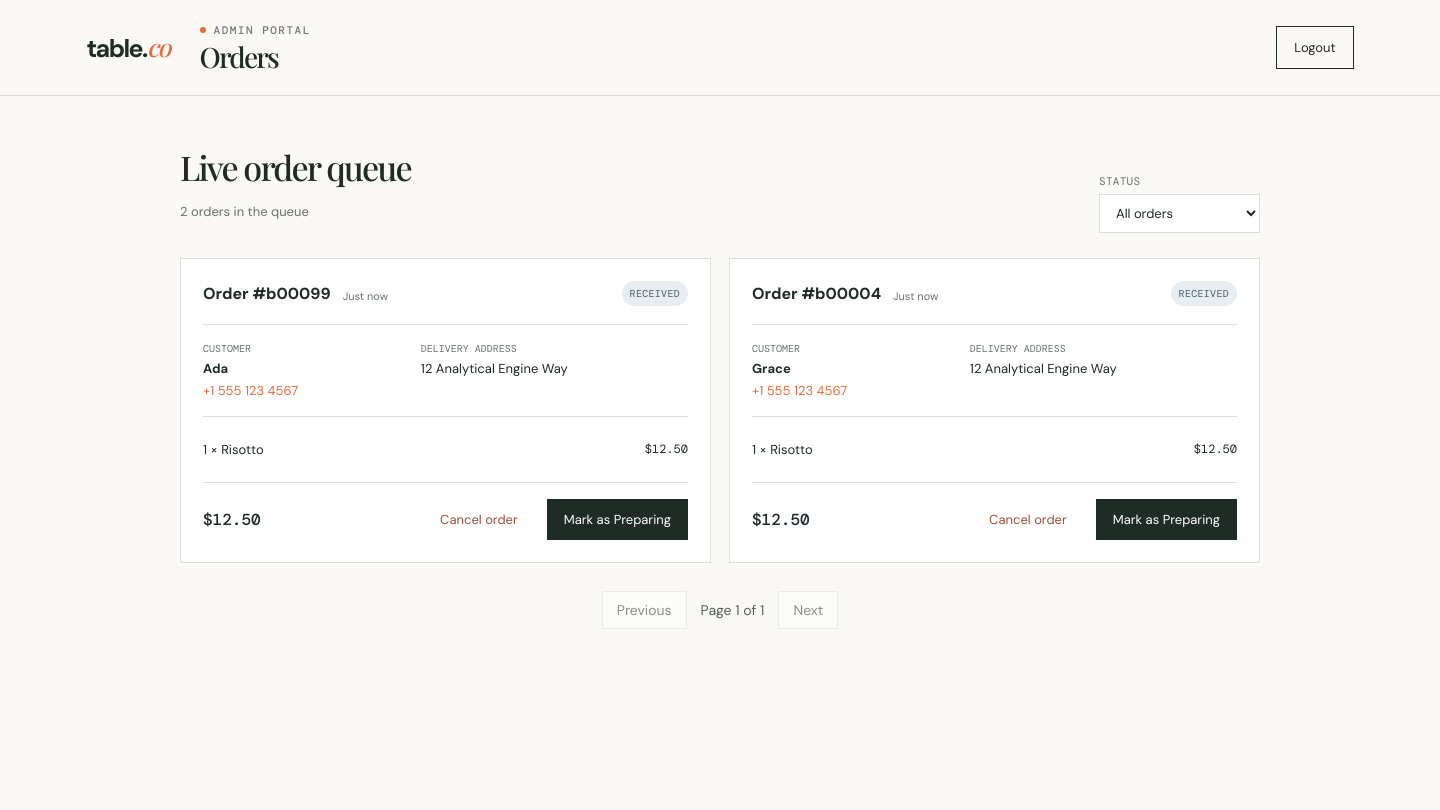
Test case: admin orders › clears one card loading state and shows an error when its status update fails
Click the button "Mark as Preparing" below "b00099".
click(617, 520)  # box [547,499,688,540]
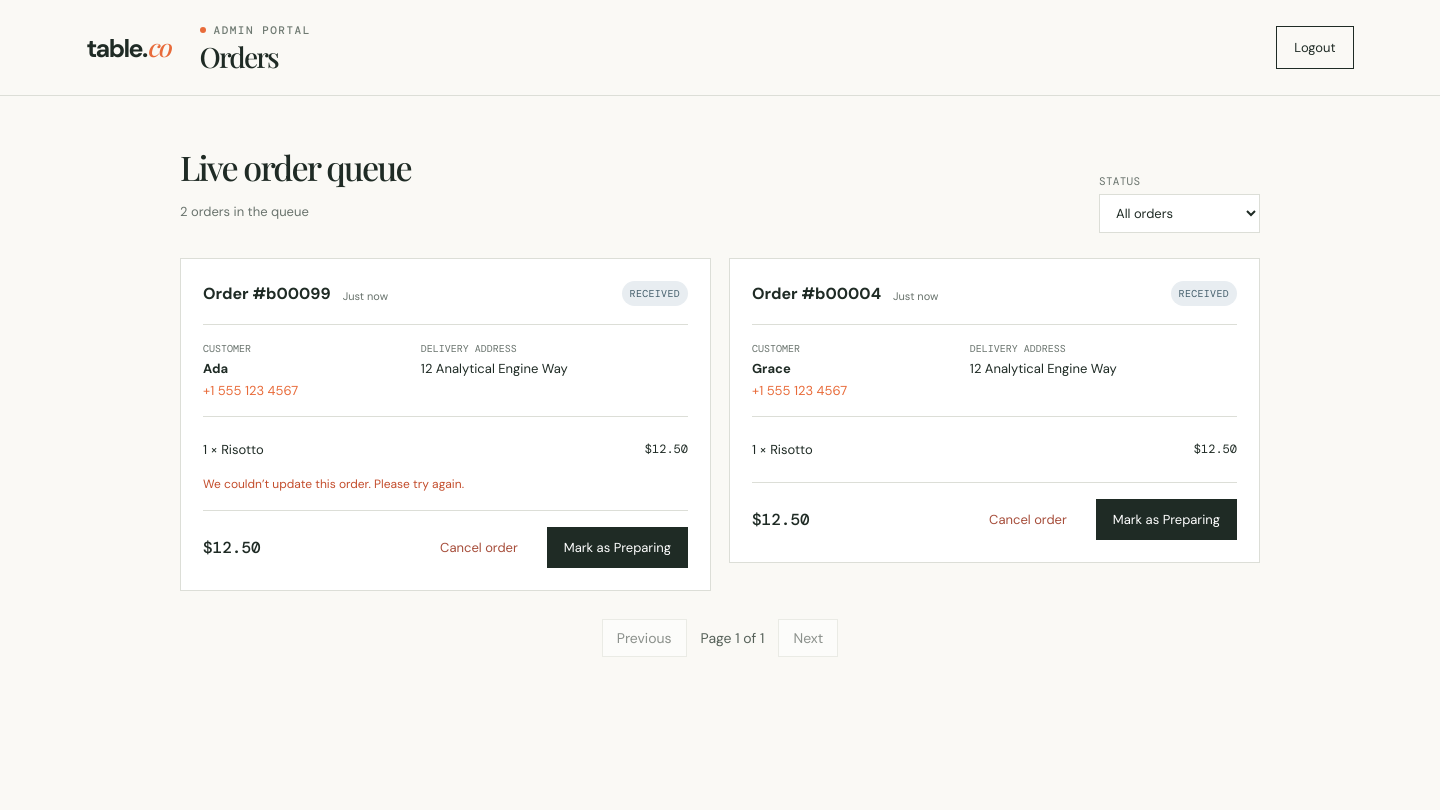
Expected: the button "Mark as Preparing" below "b00099" is enabled, [547,527,688,568]
Expected: the message shows "couldn’t update this order", [203,476,464,492]
